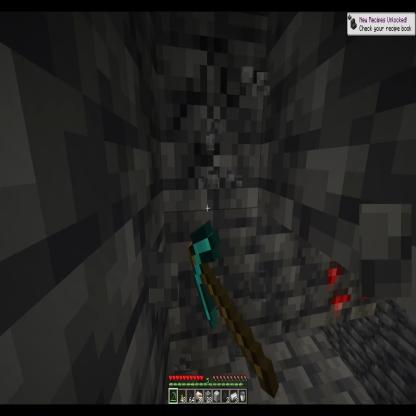redstone ore: (310, 251, 377, 330)
